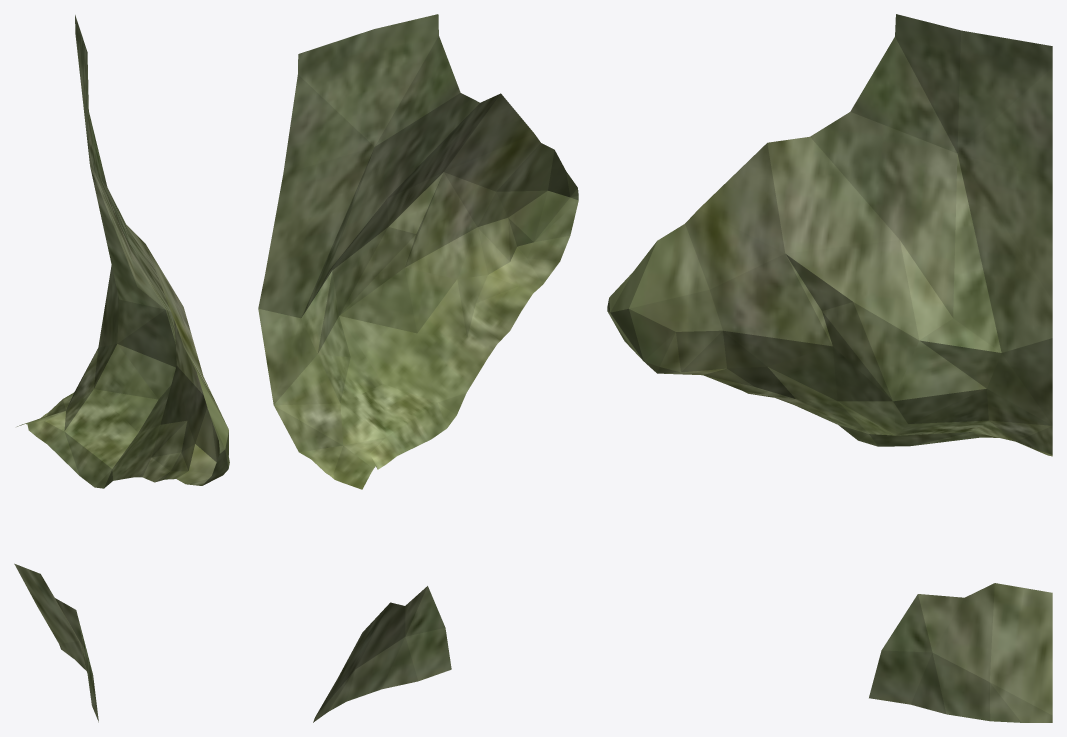
The picture shows the model from 3 angles, left to right: view 1: azimuth 30°, elevation 25°; view 2: azimuth 150°, elevation 25°; view 3: azimuth 270°, elevation 25°; orthographic projection. The views are drawn at different scales.
Size of the model in its own units: 0.4831 by 2.95 by 1.74.
Materials: 1 (1 with a texture image).
